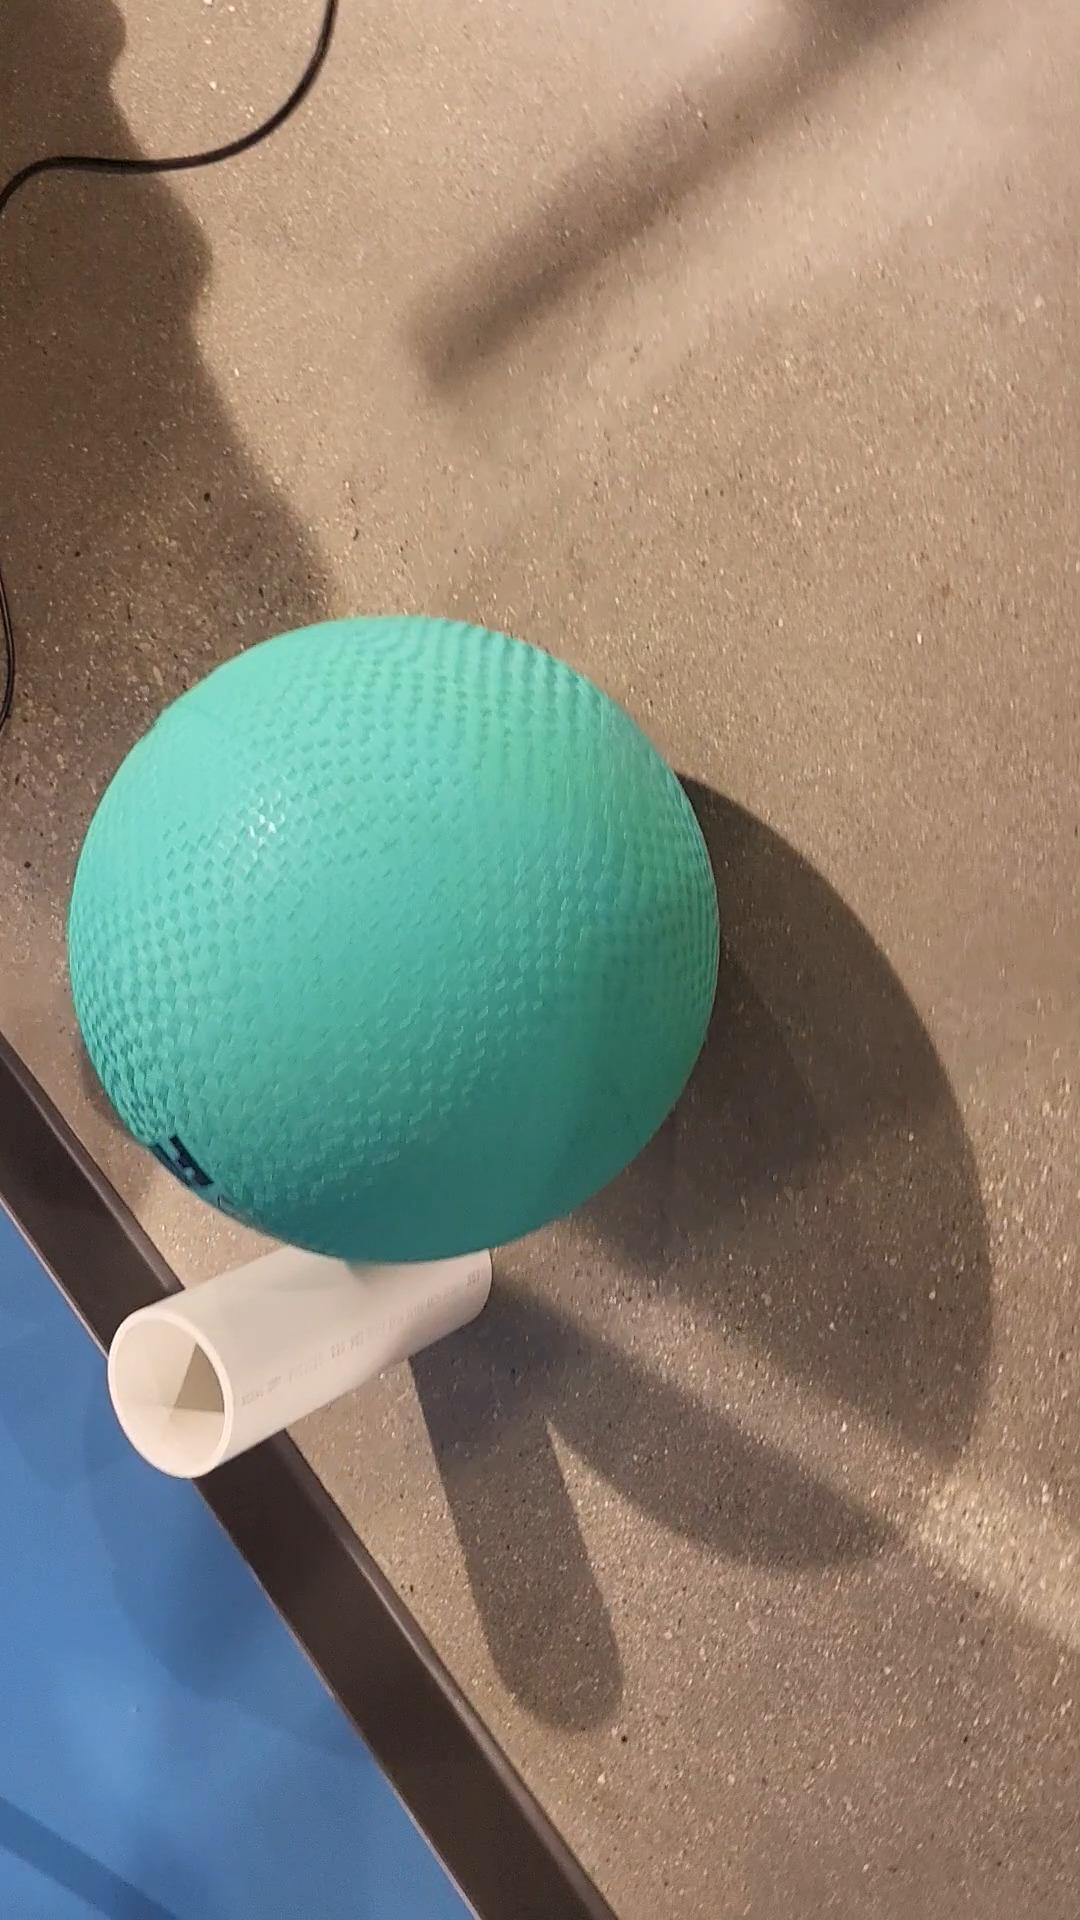algae: (63, 617, 727, 1274)
coral: (100, 1208, 500, 1484)
